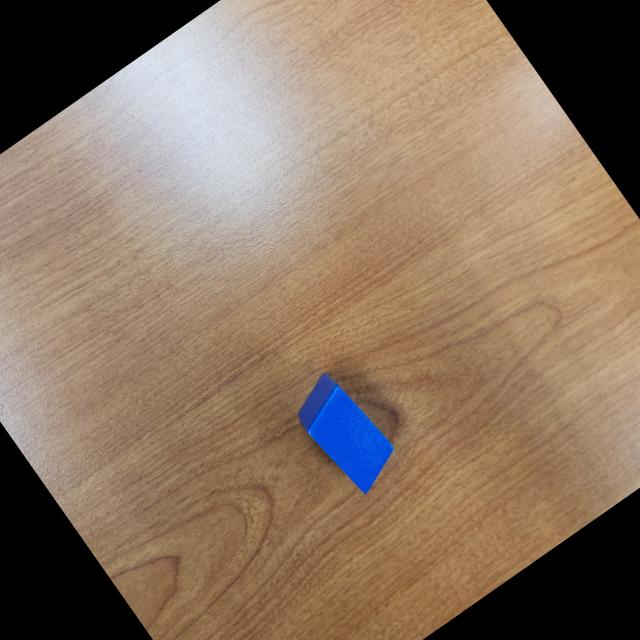blue: (284, 362, 408, 502)
